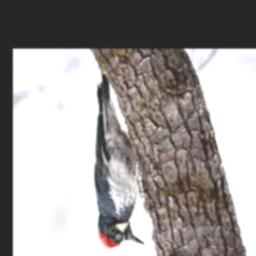Woodpecker: (95, 72, 145, 249)
